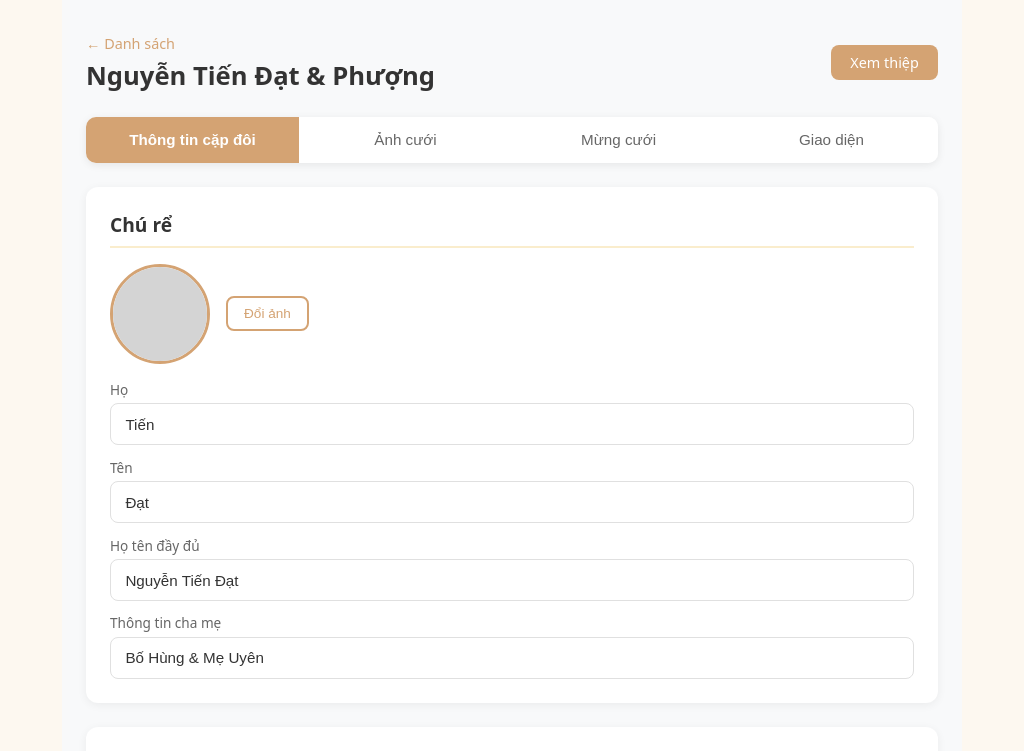
Test: CoupleAdmin – tab persistence › switching tabs does not lose tab state
This screenshot has width=1024, height=751.
// Switch to photos
Click the button "Ảnh cưới": (406, 140) x1=299 y1=117 x2=512 y2=163
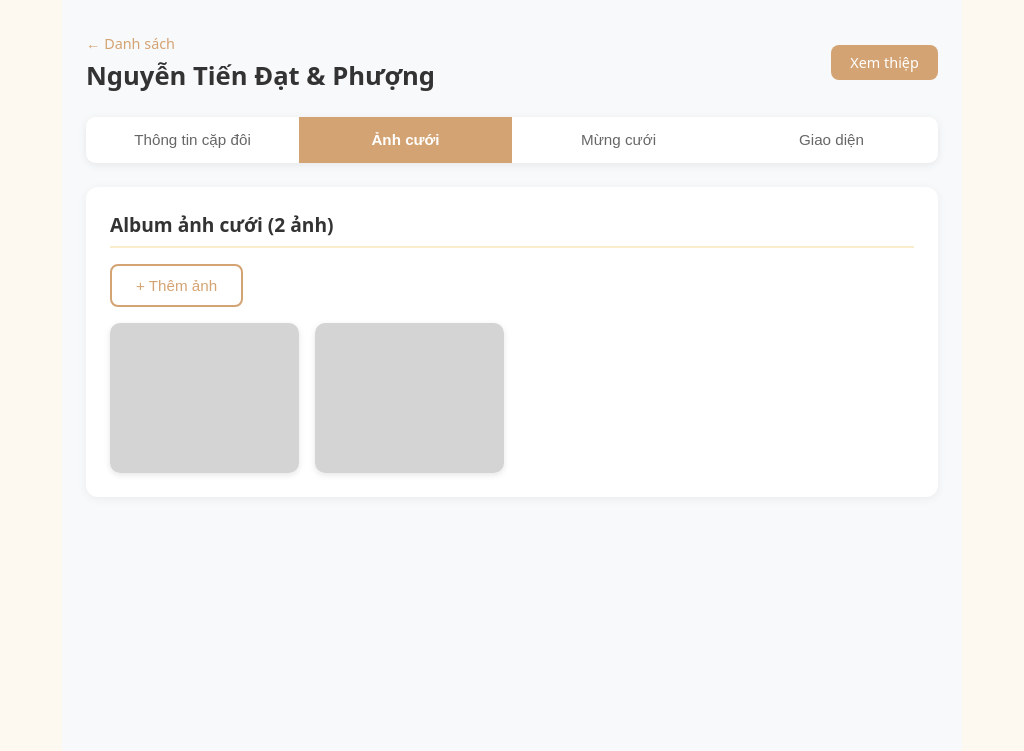
Check: the heading "Album ảnh cưới (2 ảnh)" is shown, box x1=110 y1=211 x2=914 y2=248
// Switch to bank
Click the button "Mừng cưới": (618, 140) x1=512 y1=117 x2=725 y2=163
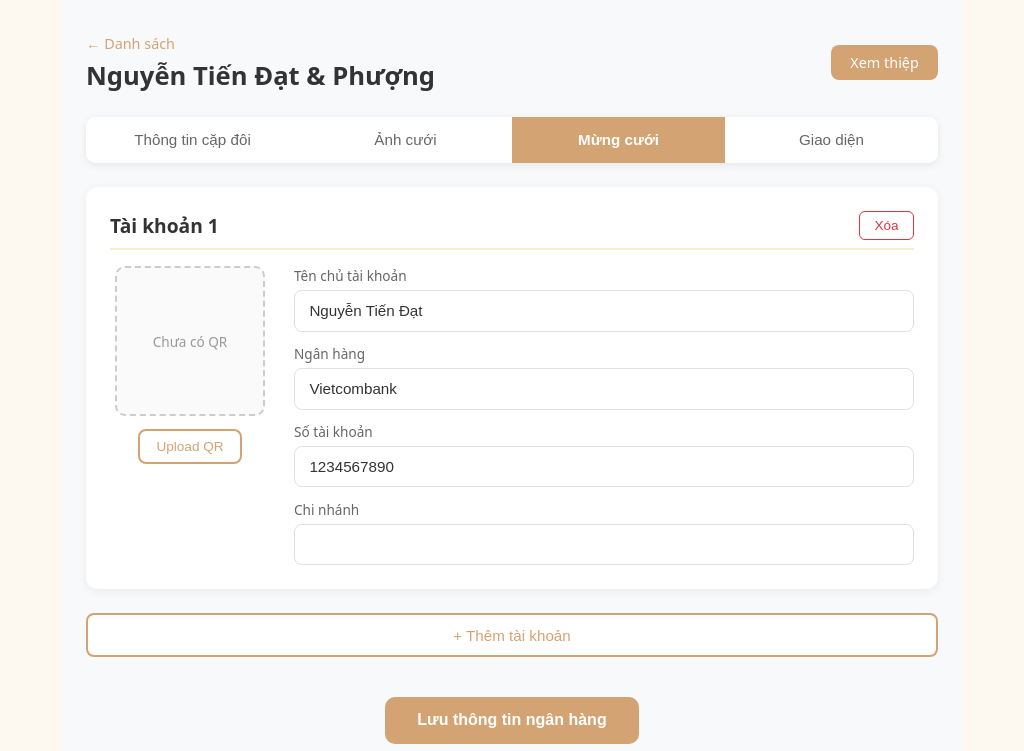
Check: the heading "Tài khoản 1" is shown, box x1=110 y1=212 x2=219 y2=239
// Switch to template
Click the button "Giao diện": (832, 140) x1=725 y1=117 x2=938 y2=163
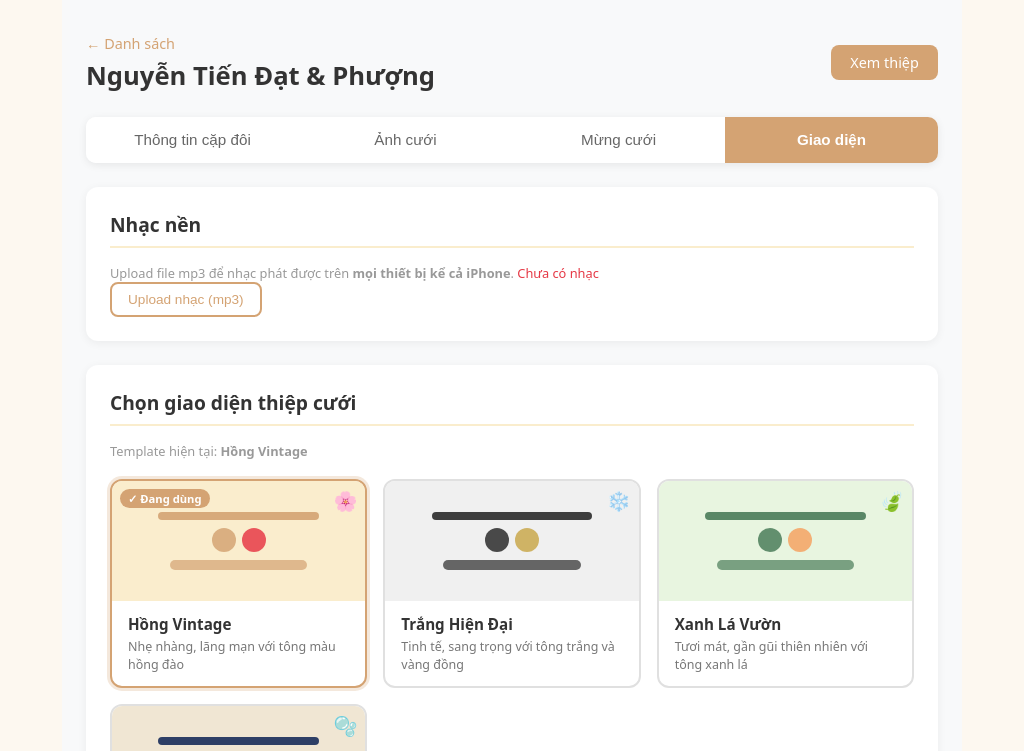
Check: the heading "Chọn giao diện thiệp cưới" is shown, box x1=110 y1=389 x2=914 y2=426
// Switch back to couple
Click the button "Thông tin cặp đôi": (192, 140) x1=86 y1=117 x2=299 y2=163
(page scrolled)
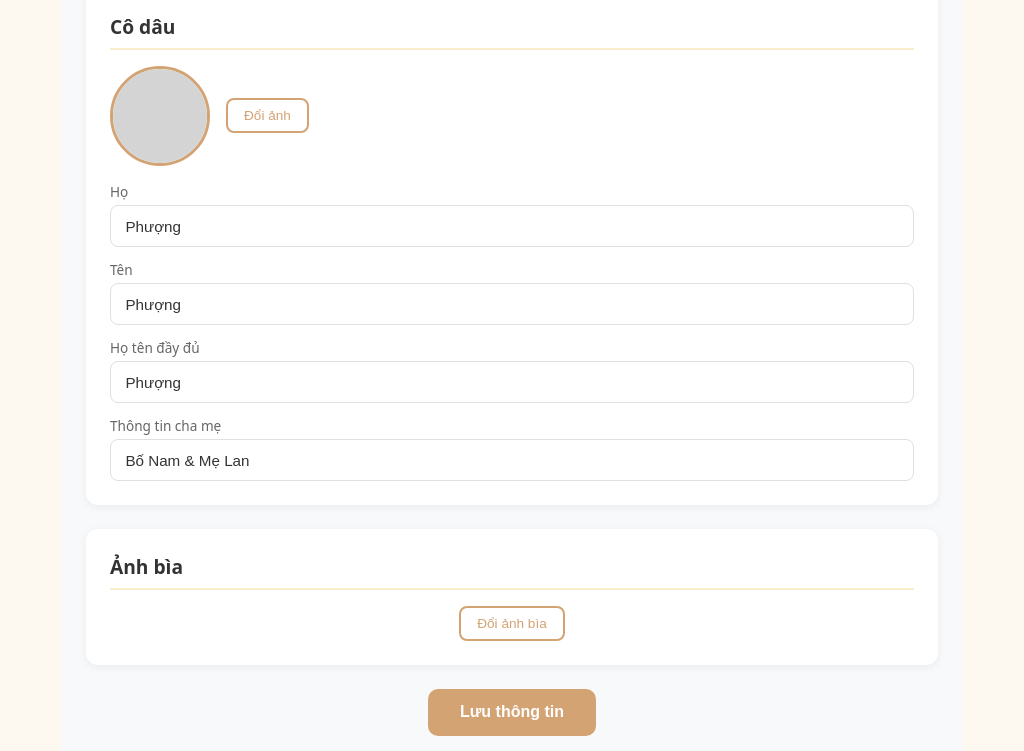
Check: the button "Lưu thông tin" is shown, box x1=428 y1=689 x2=596 y2=736
